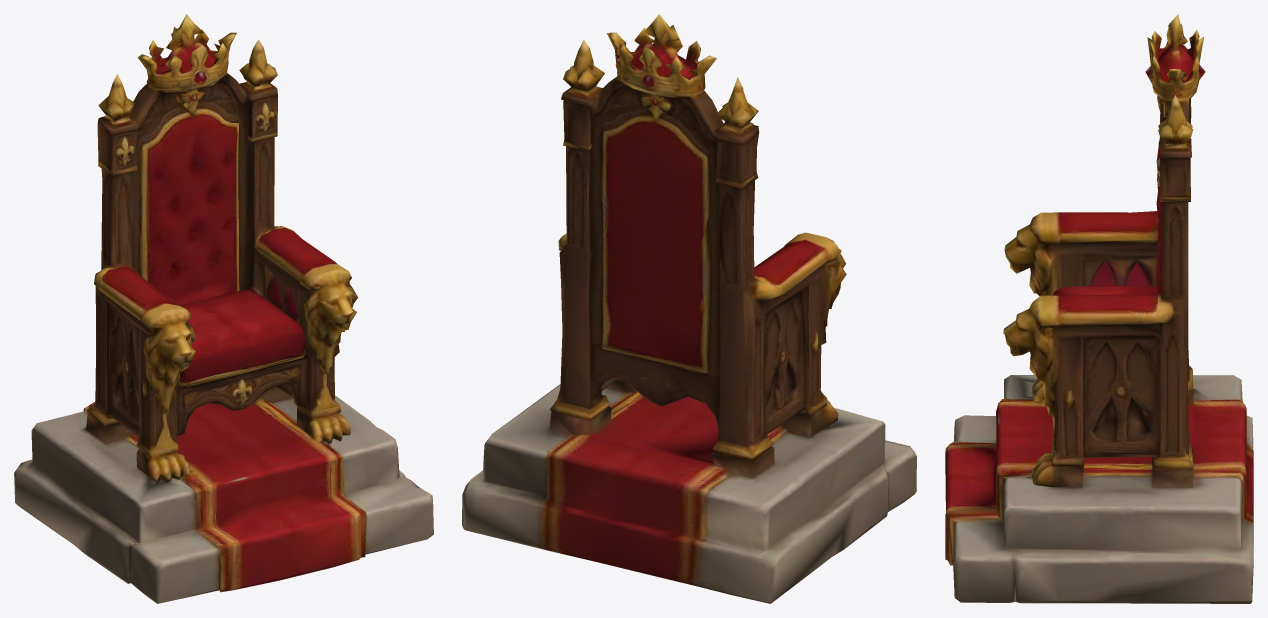
File: throne.glb
3 renders of one model, left to right at view 1: azimuth 30°, elevation 25°; view 2: azimuth 150°, elevation 25°; view 3: azimuth 270°, elevation 25°, orthographic. The views are drawn at different scales.
Visible parts, largest first — view 1: throne; view 2: throne; view 3: throne.
Boxes of the visible parts, left/top/right/bottom form: throne: left=14, top=14, right=433, bottom=603; throne: left=462, top=14, right=916, bottom=603; throne: left=945, top=14, right=1253, bottom=603.
Bounding box in the file's own units: 2.47 × 3.99 × 2.16.
Materials: 1 (1 with a texture image).
